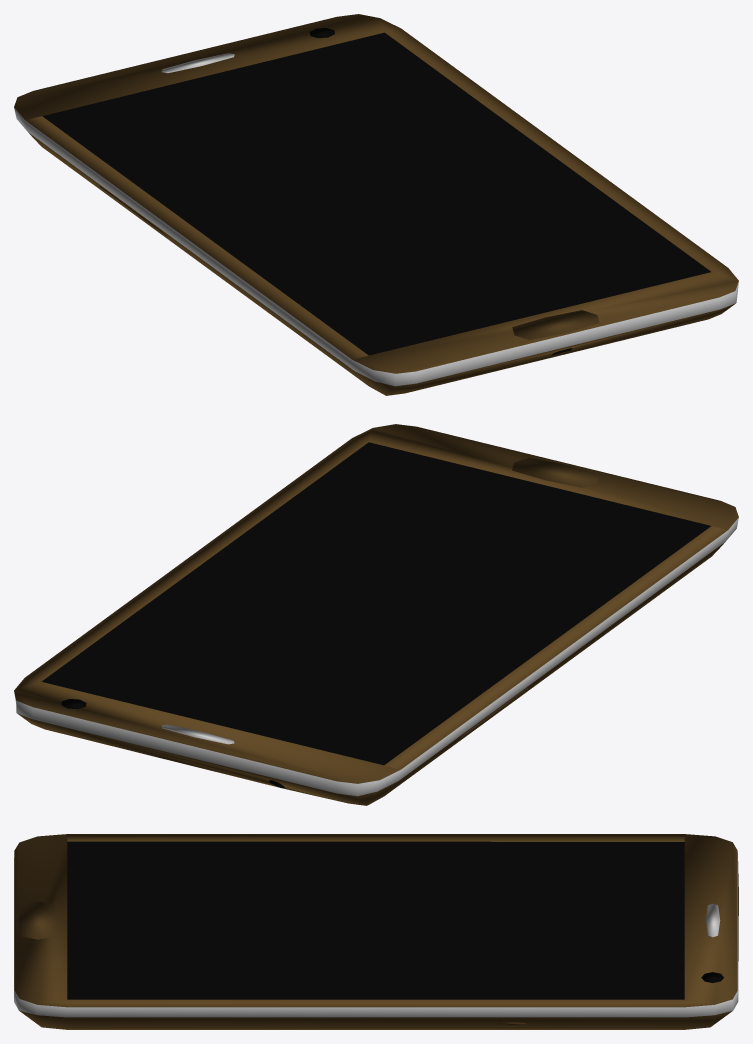
File: asset4.gltf
The picture shows the model from 3 angles, top to bottom: view 1: azimuth 30°, elevation 25°; view 2: azimuth 150°, elevation 25°; view 3: azimuth 270°, elevation 25°; orthographic projection. The views are drawn at different scales.
Parts seen in each view (by area): view 1: Cube; view 2: Cube; view 3: Cube.
Boxes of the visible parts, x1,y1,x2,y2 form: Cube: (14,14,738,395); Cube: (14,424,738,805); Cube: (14,834,738,1029).
Size of the model in its own units: 1.97 by 0.2136 by 3.48.
